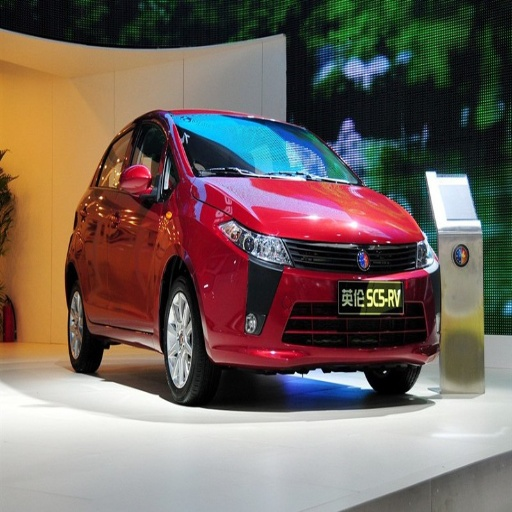front_bumper: (201, 238, 439, 368)
front_right_door: (107, 115, 174, 327)
front_right_light: (217, 214, 293, 267)
